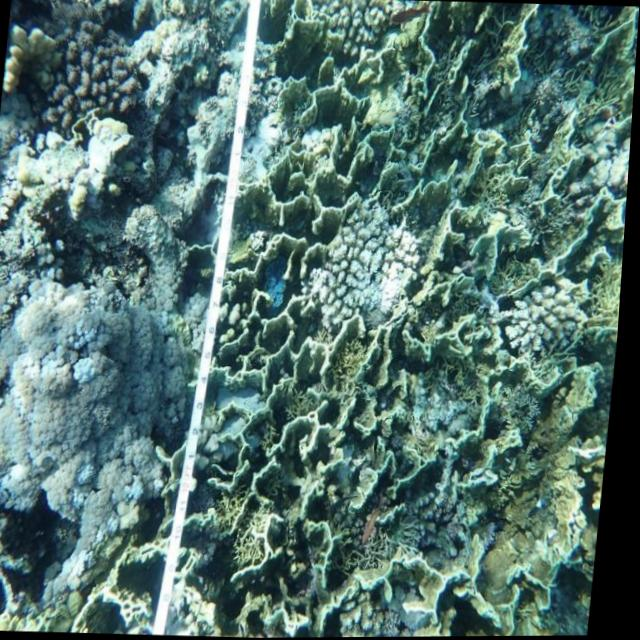Bleached Coral: (0, 233, 203, 543), (315, 198, 420, 337), (496, 273, 598, 360), (129, 1, 207, 109)
